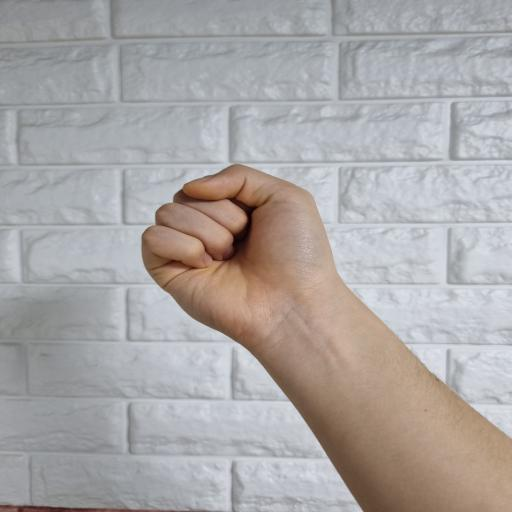Rock: (141, 164, 347, 346)
